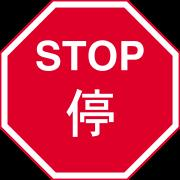Stop: (6, 3, 179, 174)
